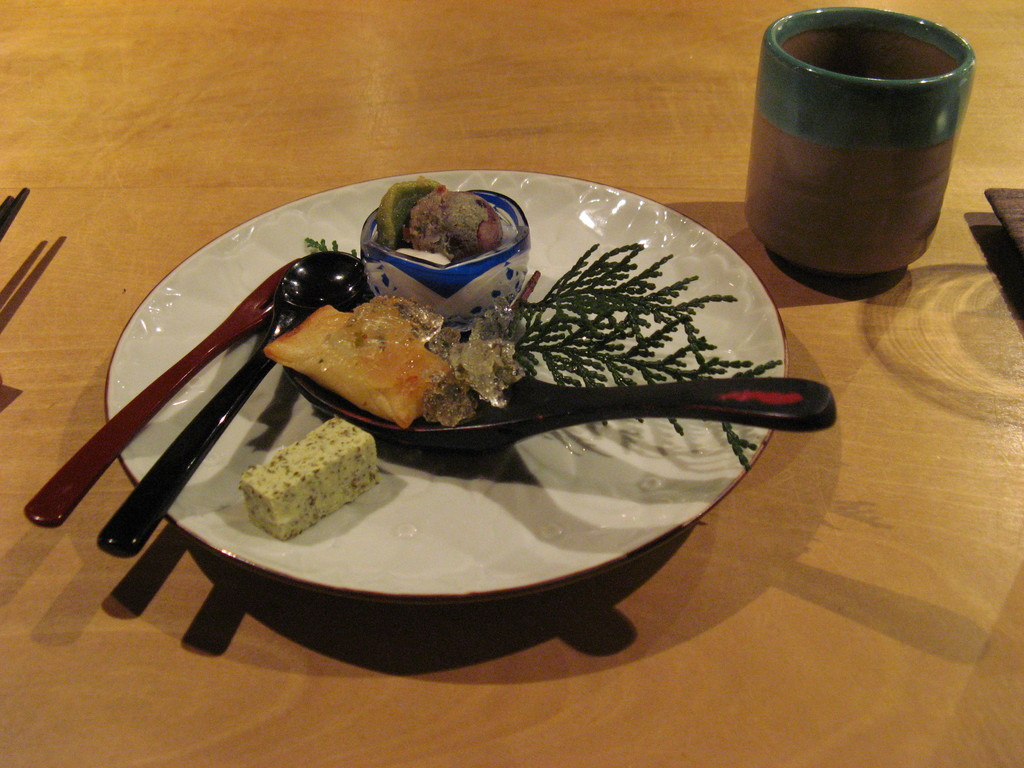plate: (90, 168, 823, 643)
